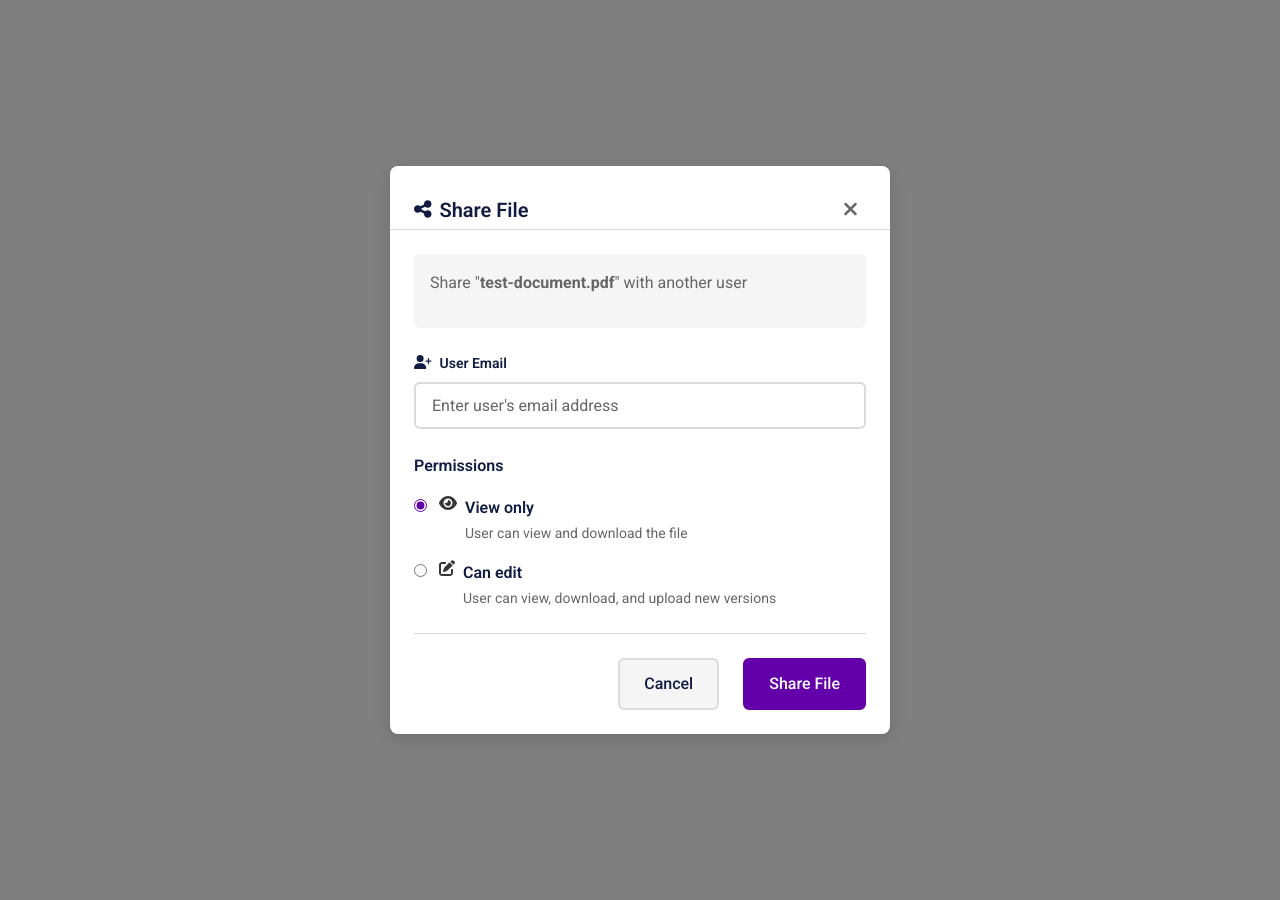
Scenario: FileShareModal › handles sharing error
The width and height of the screenshot is (1280, 900).
Type "notfound@example.com" into the field labelled "User Email" at (640, 406), box [414, 382, 866, 429]
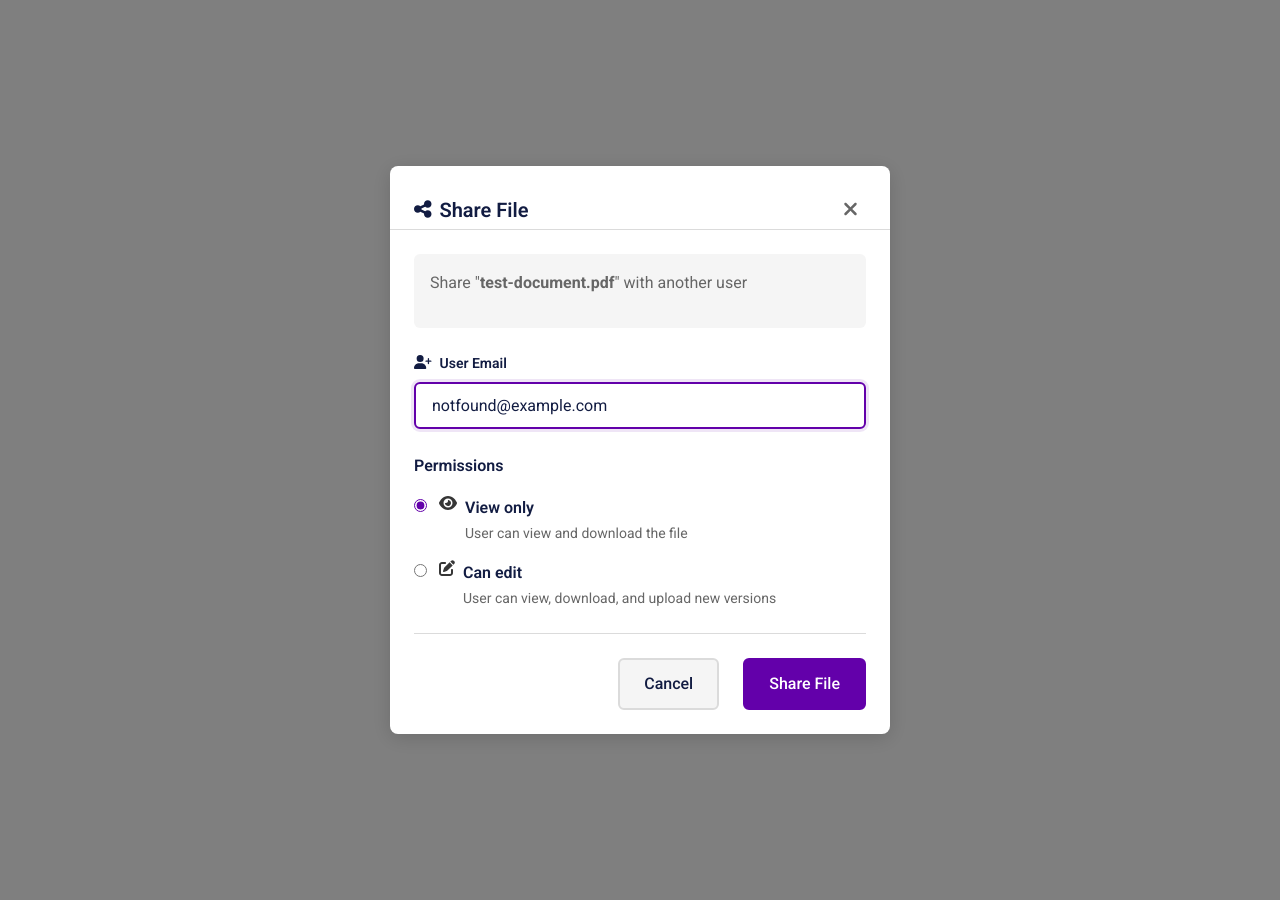
Click the button "Share File" at (805, 684), box [743, 658, 866, 710]
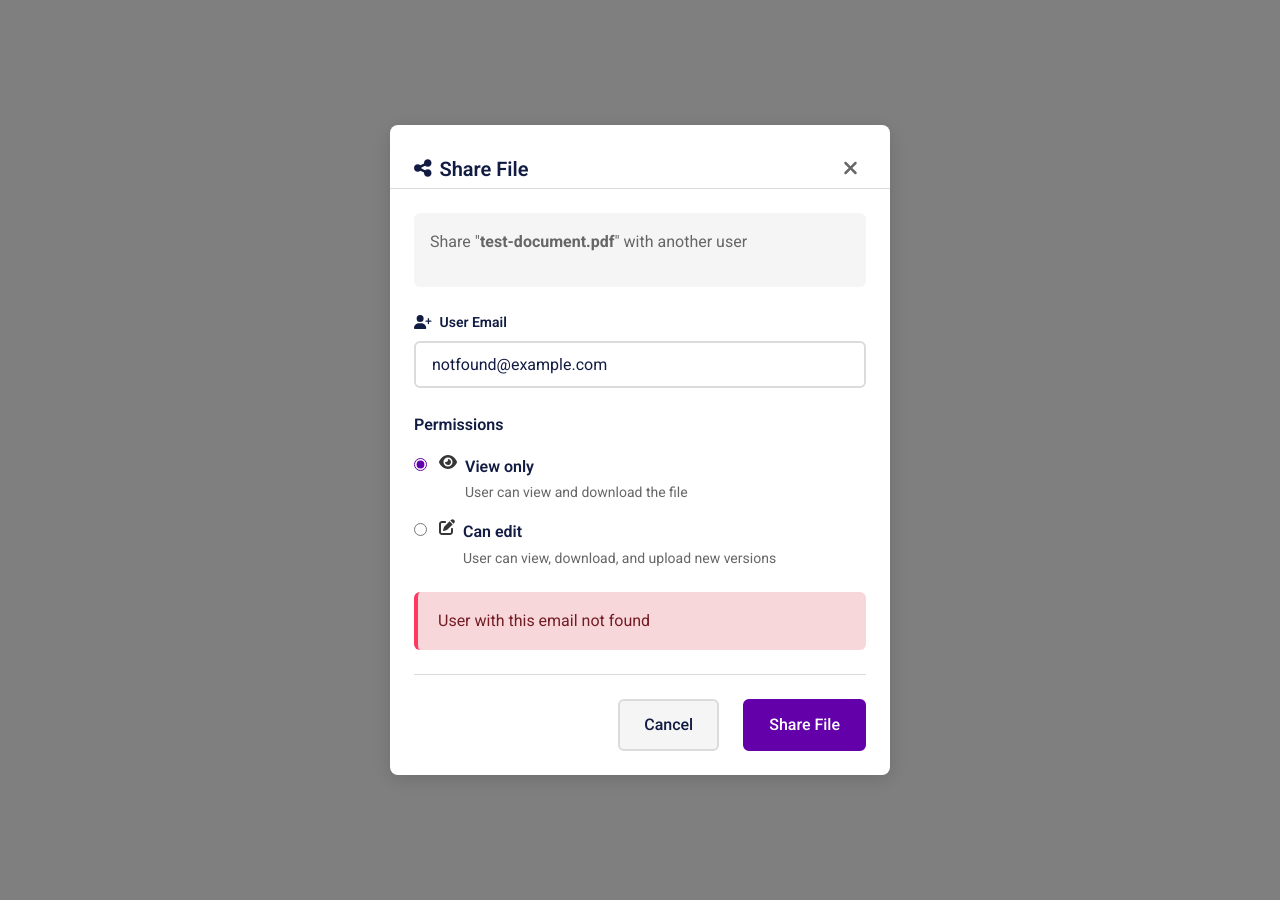
Result: the text "User with this email not found" is shown at [414, 592, 866, 650]
